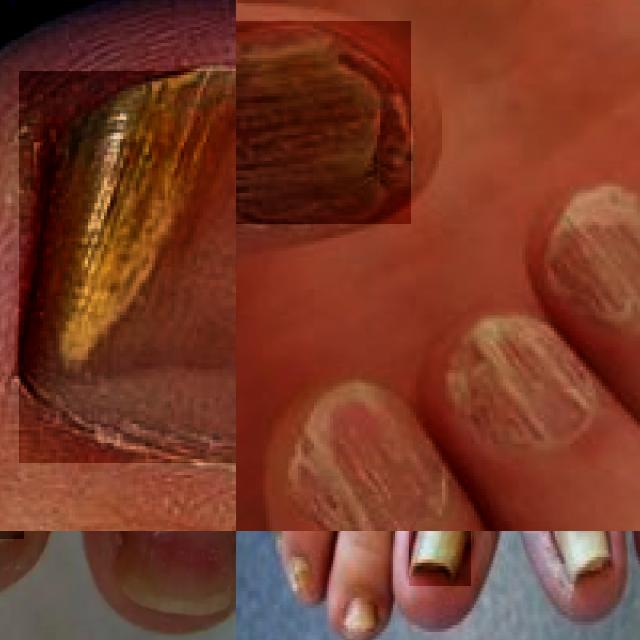diabetes: (19, 71, 236, 457), (236, 21, 411, 224), (289, 382, 449, 531), (442, 316, 595, 444), (545, 185, 640, 323), (112, 531, 236, 610), (410, 531, 471, 586), (551, 531, 612, 584)
